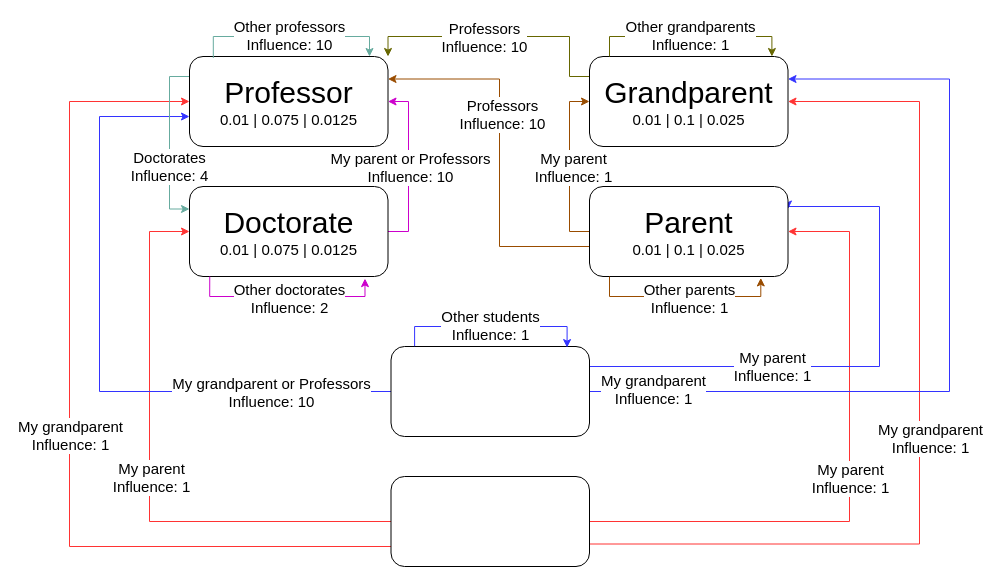
The diagram is 1000 pixels wide and 584 high, and some of its shapes have lost their labels. The shapes that lost their labels are listed below. From the top down, each one's centre as x and y in pixels, then its label:
the point at 490,391: Student 0.02 | 0.1 & 0.02 | 0.1
the point at 490,521: Baby 0.03 | 0.1 & 0.05 | 0.2
